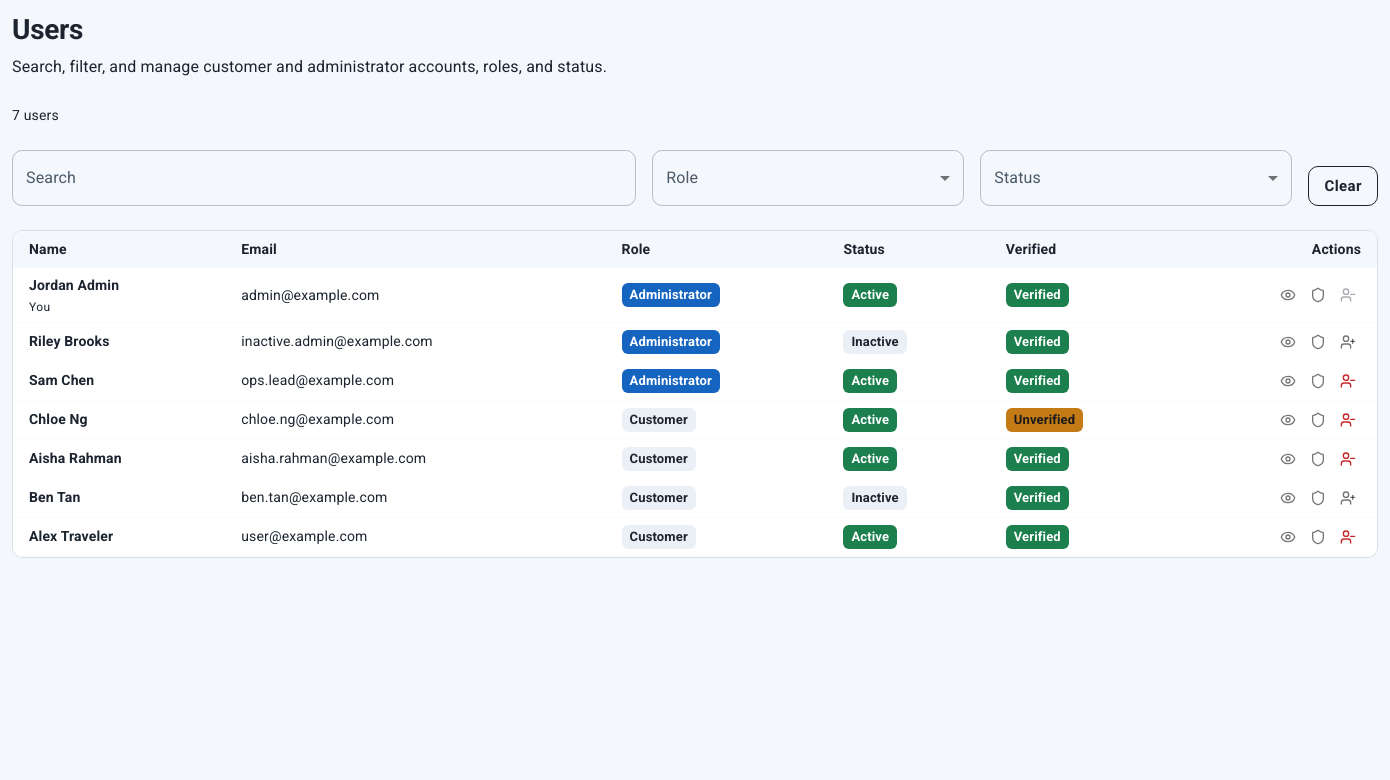
Test case: AdminUsersPage › lists users and filters by search
Expected: the heading "Users" is shown, [12, 13, 83, 46]
Expected: the text "admin@example.com" is shown, [225, 268, 606, 323]
Type "Aisha" into the field labelled "Search" at (324, 178), box [12, 150, 636, 206]
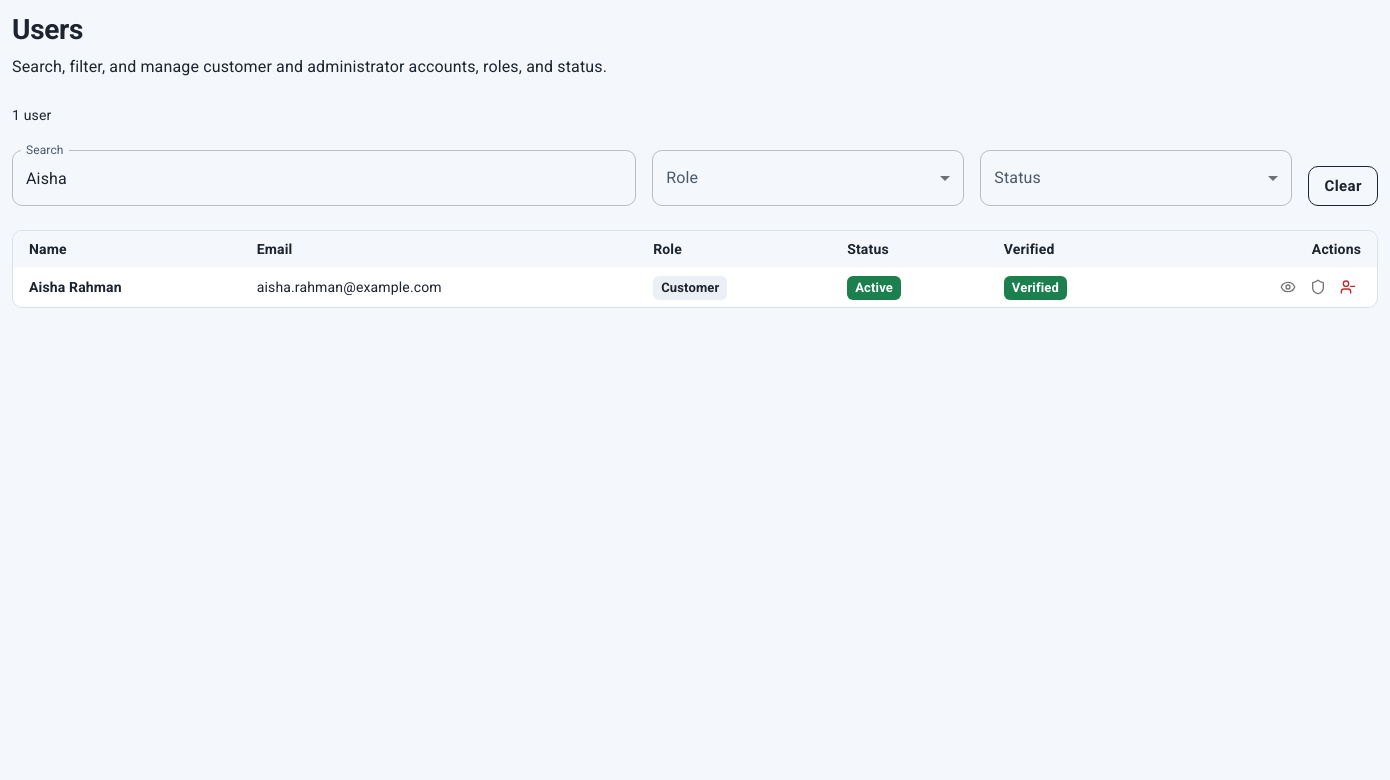
Expected: the text "aisha.rahman@example.com" is shown, [241, 268, 637, 307]
Expected: the text "user@example.com" is gone
